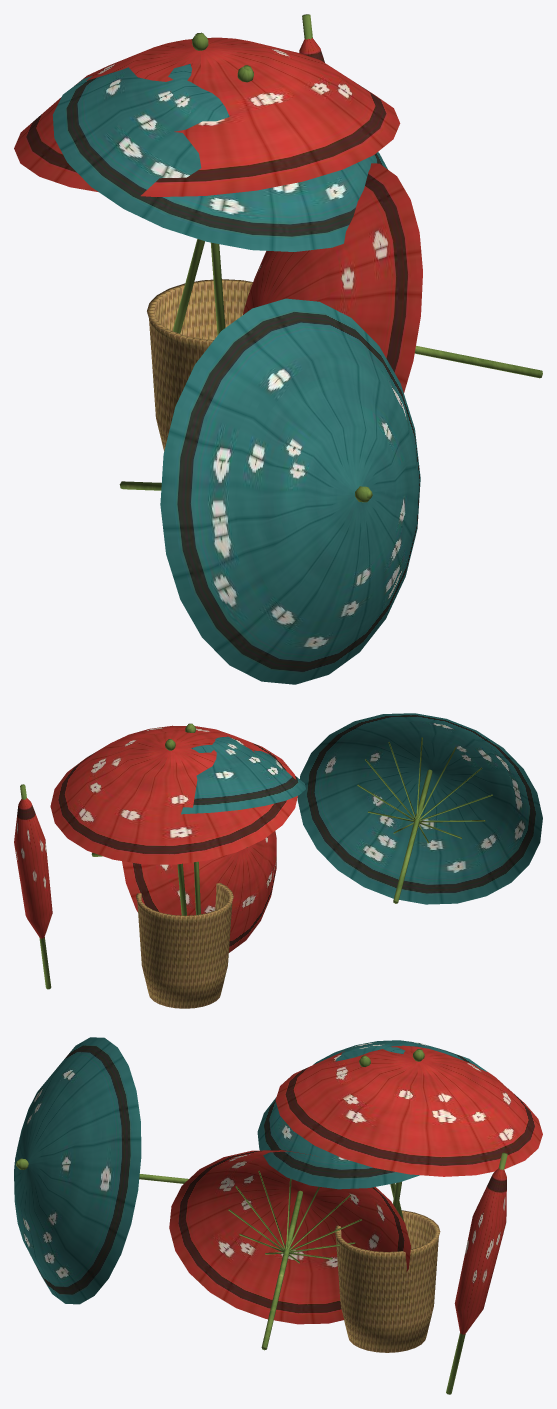
Rendered from paper_umbrellas.glb.
The picture shows the model from 3 angles, top to bottom: view 1: azimuth 30°, elevation 25°; view 2: azimuth 150°, elevation 25°; view 3: azimuth 270°, elevation 25°; orthographic projection. The views are drawn at different scales.
Parts seen in each view (by area): view 1: UmbrellaTeal, UmbrellaRed, UmbrellaBasket, UmbrellaShafts; view 2: UmbrellaTeal, UmbrellaRed, UmbrellaBasket, UmbrellaShafts; view 3: UmbrellaRed, UmbrellaTeal, UmbrellaBasket, UmbrellaShafts.
Part boxes in pixels (x1,y1,x2,y2): UmbrellaTeal: (52, 63, 420, 684); UmbrellaRed: (14, 37, 422, 392); UmbrellaBasket: (147, 279, 252, 451); UmbrellaShafts: (119, 14, 542, 502); UmbrellaTeal: (181, 713, 542, 904); UmbrellaRed: (14, 725, 297, 952); UmbrellaBasket: (136, 883, 233, 1008); UmbrellaShafts: (20, 723, 492, 989); UmbrellaRed: (169, 1045, 542, 1334); UmbrellaTeal: (14, 1037, 486, 1304); UmbrellaBasket: (334, 1210, 440, 1352); UmbrellaShafts: (16, 1049, 507, 1394).
Size of what is drawn, in the model's own units: 1.76 by 1.3 by 2.15.
Materials: 4 (4 with a texture image).
